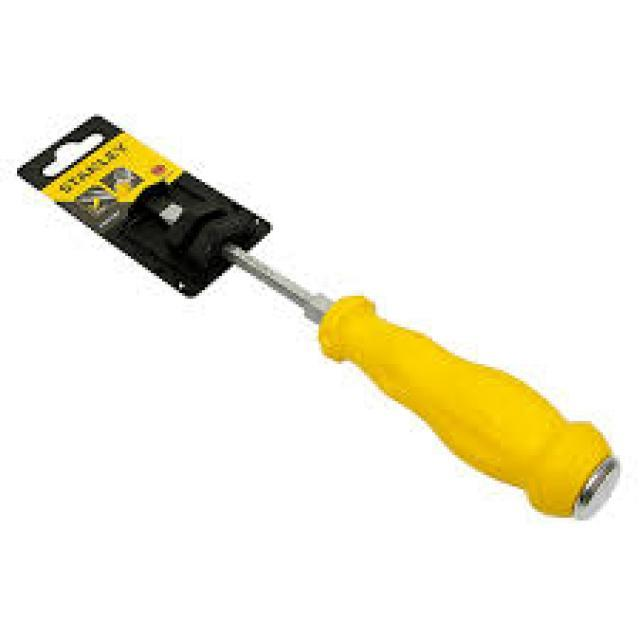screwdriver: (111, 167, 626, 528)
